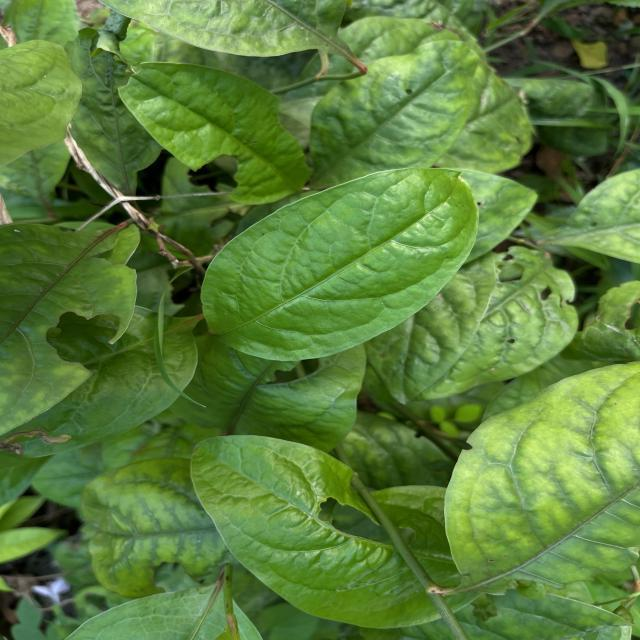Plumbago indica: (198, 162, 483, 366), (184, 433, 444, 635), (112, 59, 320, 211)
